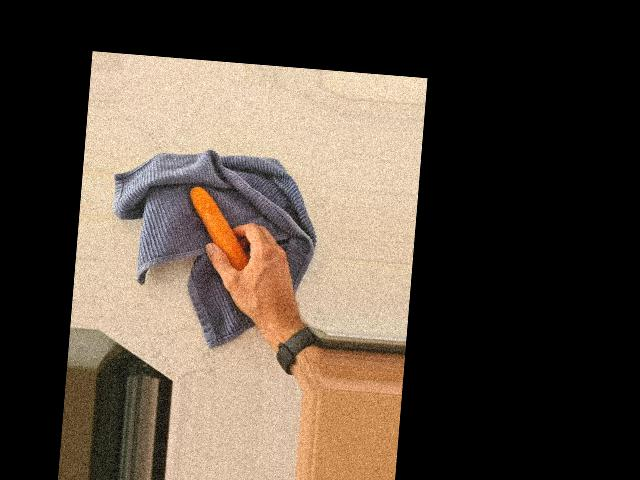carrot: (181, 185, 253, 276)
